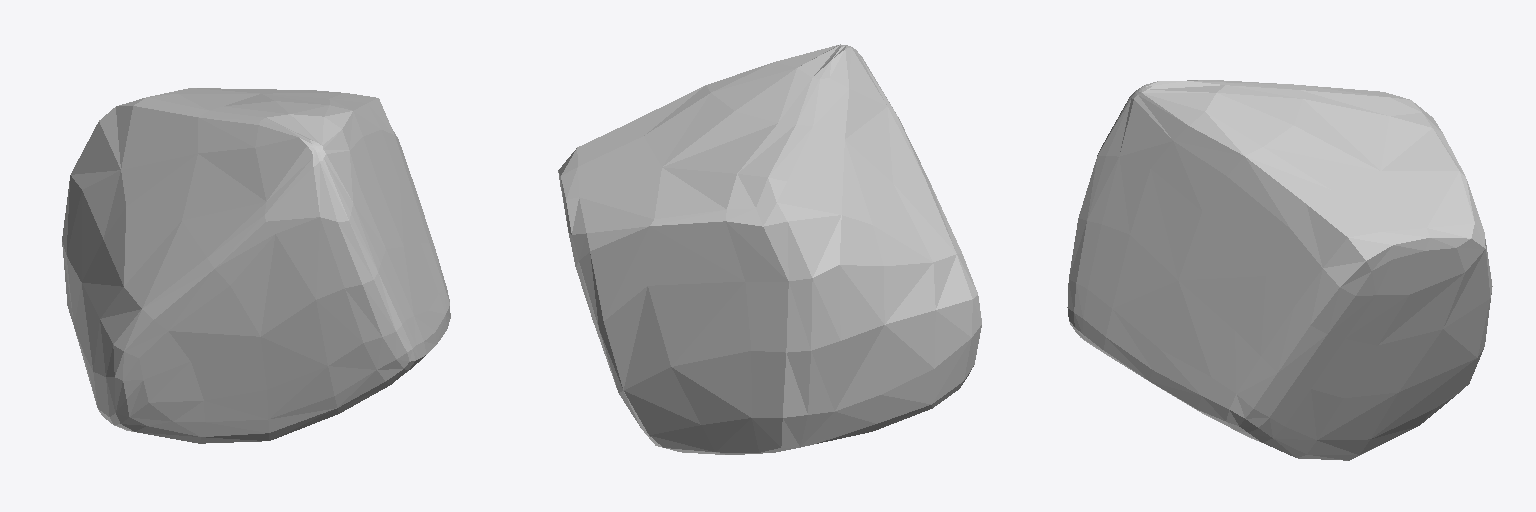
File: Rock3.obj
3 renders of one model, left to right at view 1: azimuth 30°, elevation 25°; view 2: azimuth 150°, elevation 25°; view 3: azimuth 270°, elevation 25°, orthographic.
Parts seen in each view (by area): view 1: Rocks_Scatter_04_Mesh.003; view 2: Rocks_Scatter_04_Mesh.003; view 3: Rocks_Scatter_04_Mesh.003.
Part boxes in pixels (left/top/right/bottom): Rocks_Scatter_04_Mesh.003: left=62, top=88, right=450, bottom=443; Rocks_Scatter_04_Mesh.003: left=558, top=44, right=981, bottom=454; Rocks_Scatter_04_Mesh.003: left=1067, top=80, right=1492, bottom=460.
Bounding box in the file's own units: 0.7019 × 0.6292 × 0.7268.